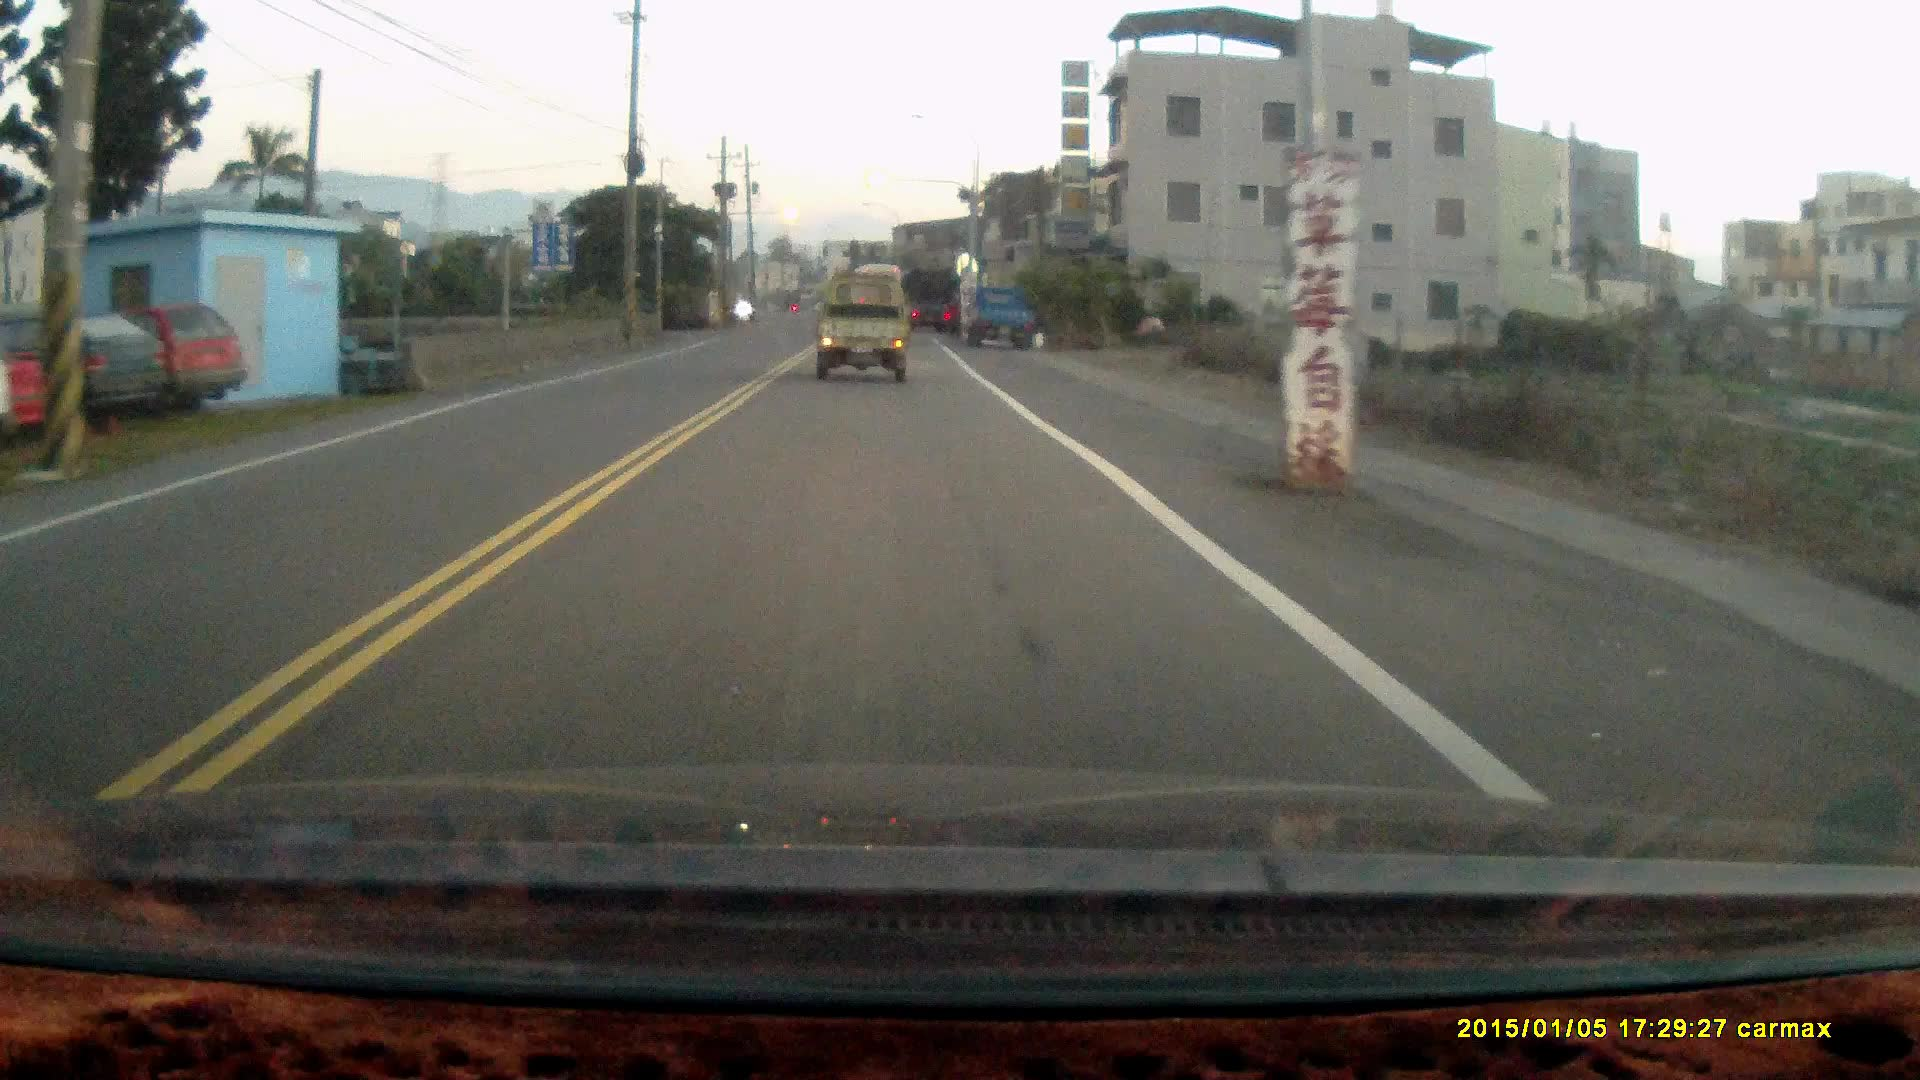vehicle: (26, 301, 237, 411), (4, 303, 178, 433), (815, 276, 916, 378), (963, 290, 1043, 352), (899, 269, 963, 336)
